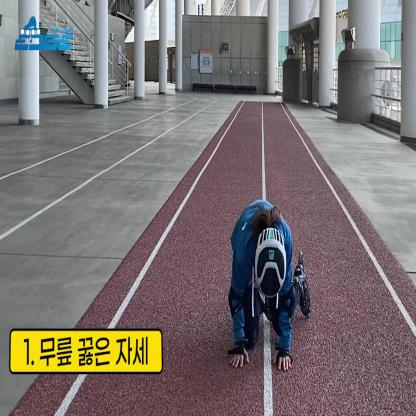Fall_Down: (228, 195, 312, 372)
